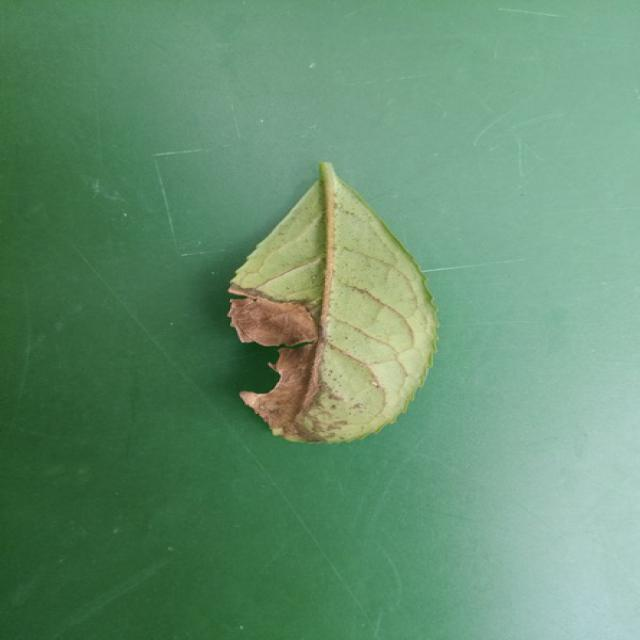Tea cloud leaf blight: (225, 283, 326, 430)
